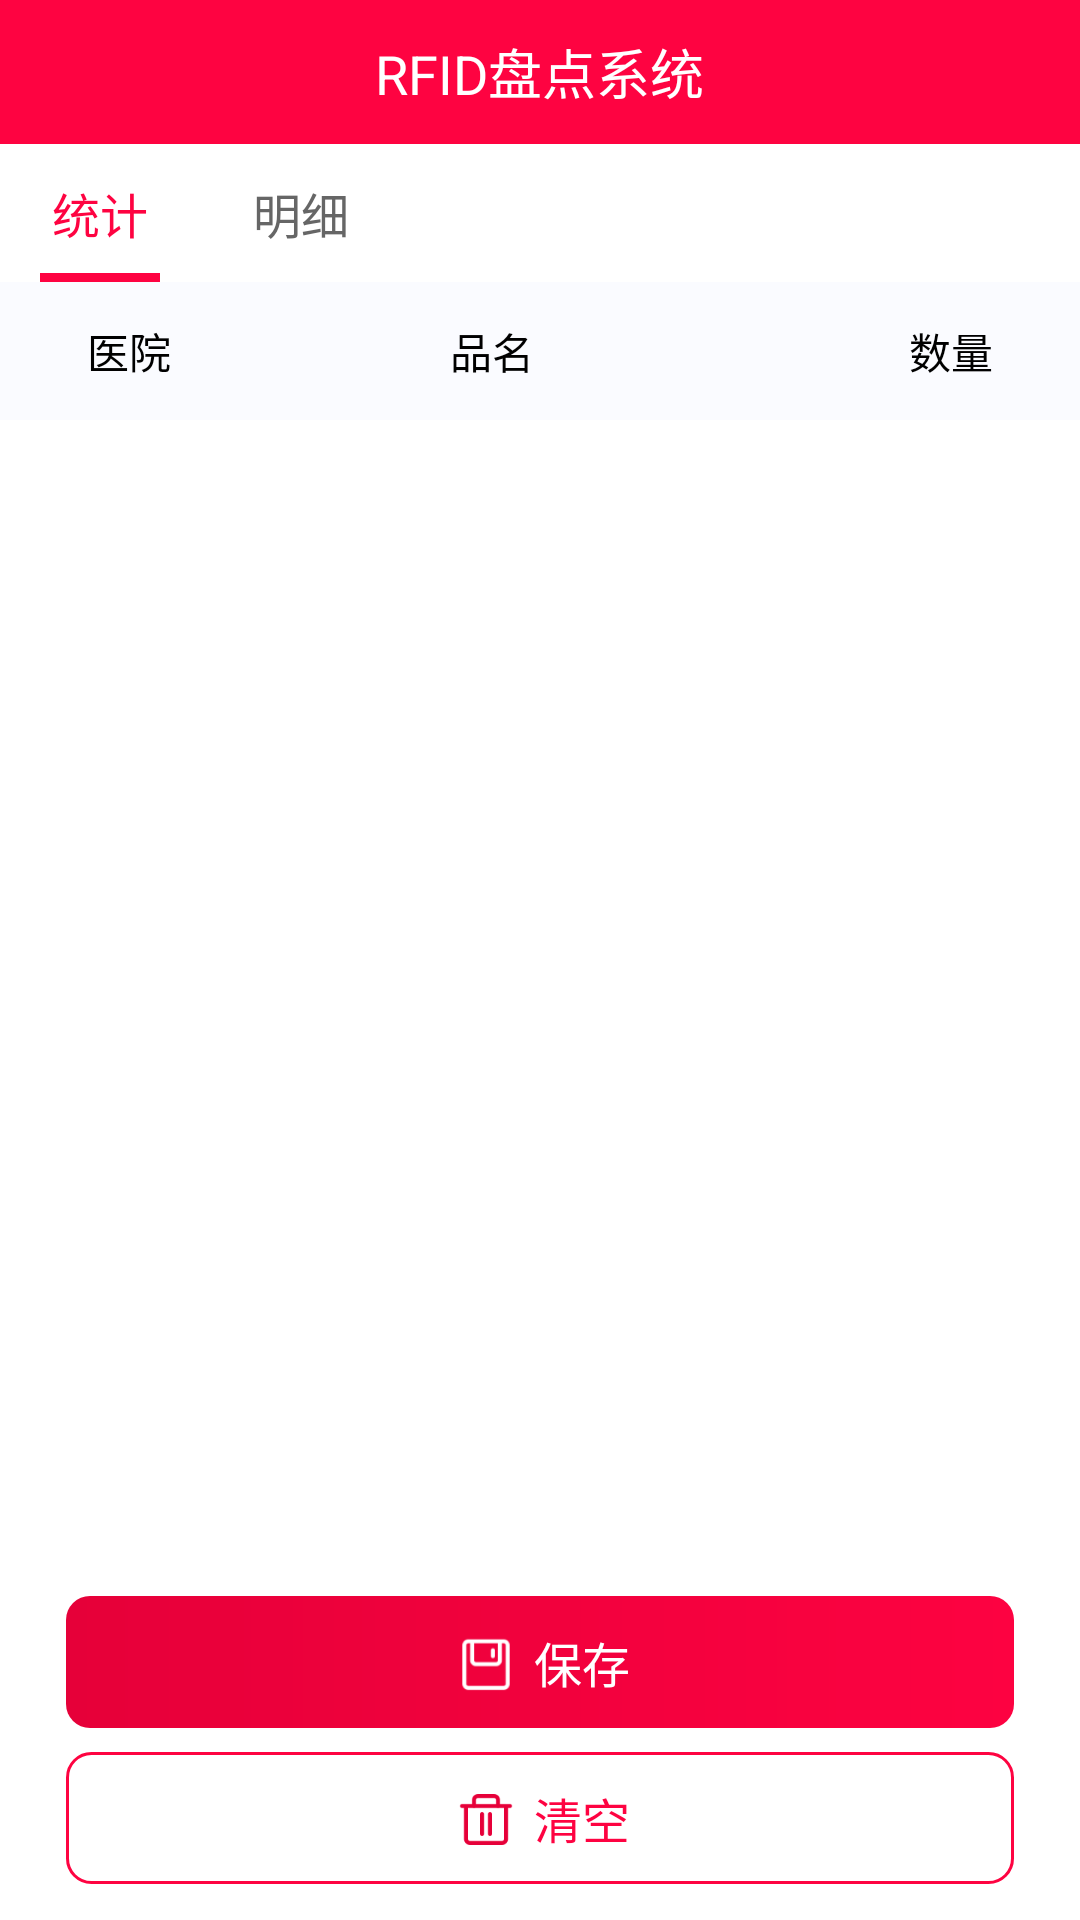

Icon bounding boxes for this 1080*1920 phone screenshot, format (x1, y1, x2, y2):
save: (462, 1639, 510, 1690)
trash: (460, 1794, 512, 1845)
